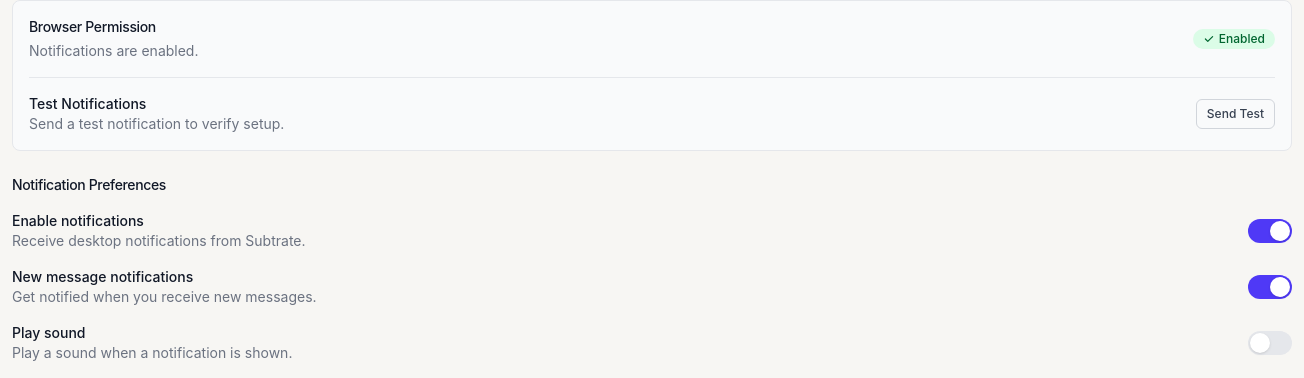
Test case: NotificationSettings › preference toggles › disables toggles when master toggle is off
Note: Turn off the master toggle.
Click the switch in the row of "Enable notifications": (1270, 231) 1248,219 -> 1292,243
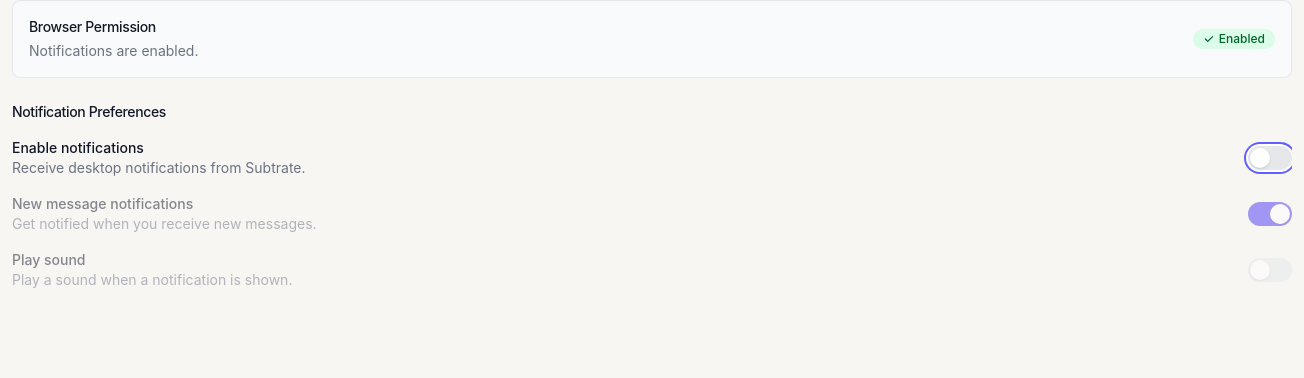
Expected: the switch in the row of "New message notifications" is disabled, 1248,202 -> 1292,226
